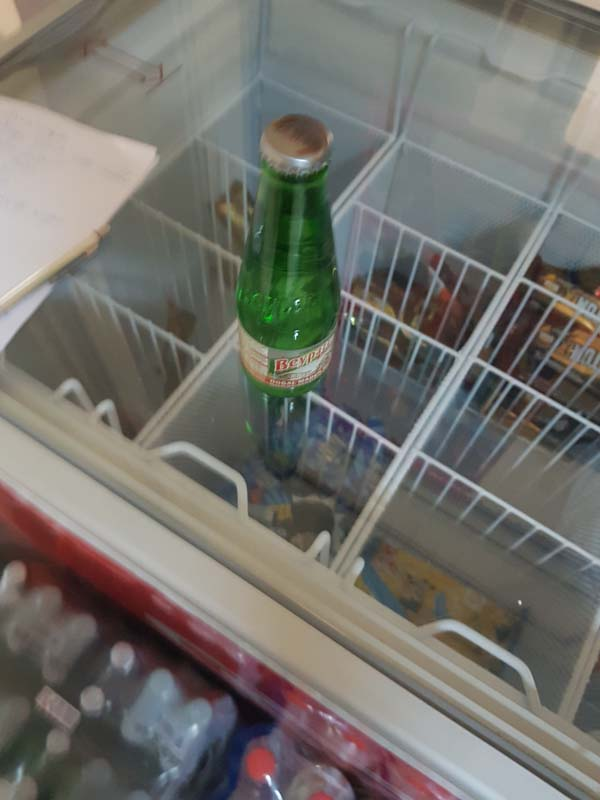beypazarimadensuyu: (230, 106, 349, 407)
